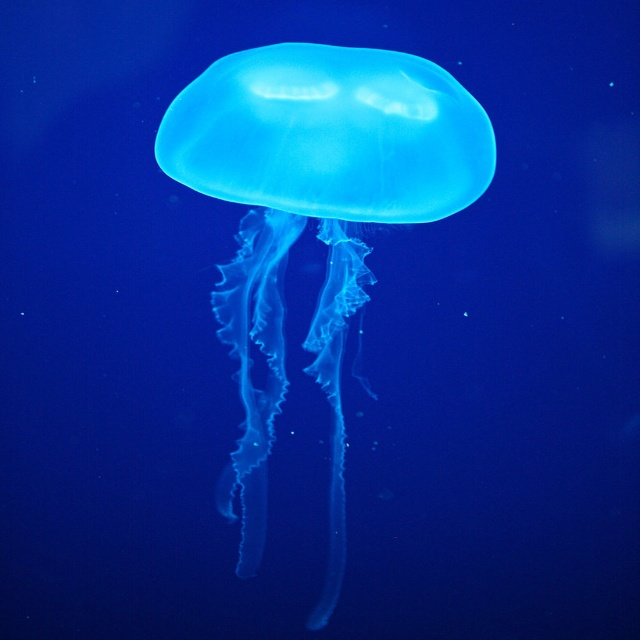Jellyfish: (155, 43, 497, 630)
